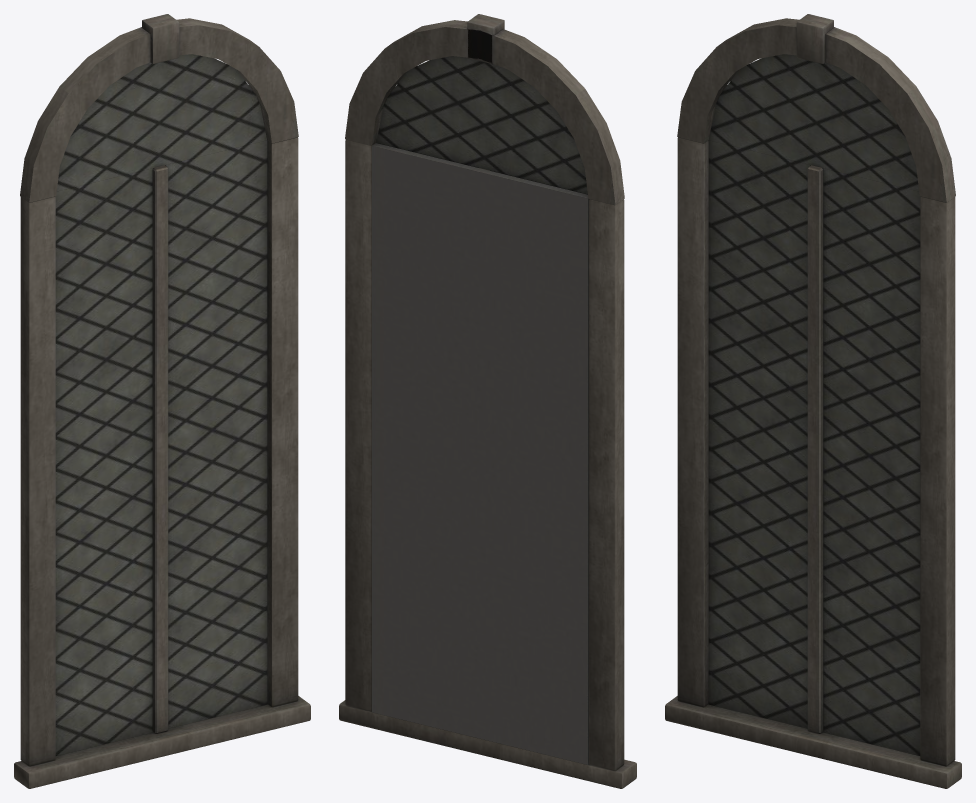
The model's file is win_church.glb.
3 views of the same model, side by side, from view 1: azimuth 30°, elevation 25°; view 2: azimuth 150°, elevation 25°; view 3: azimuth 330°, elevation 25° (orthographic).
Visible parts, largest first — view 1: win_church; view 2: win_church; view 3: win_church.
Part boxes in pixels (x1,y1,x2,y2): win_church: (14,14,310,788); win_church: (339,14,636,788); win_church: (665,14,961,788).
Size of the model in its own units: 2.1 by 5.16 by 0.2.
Materials: 1 (1 with a texture image).
